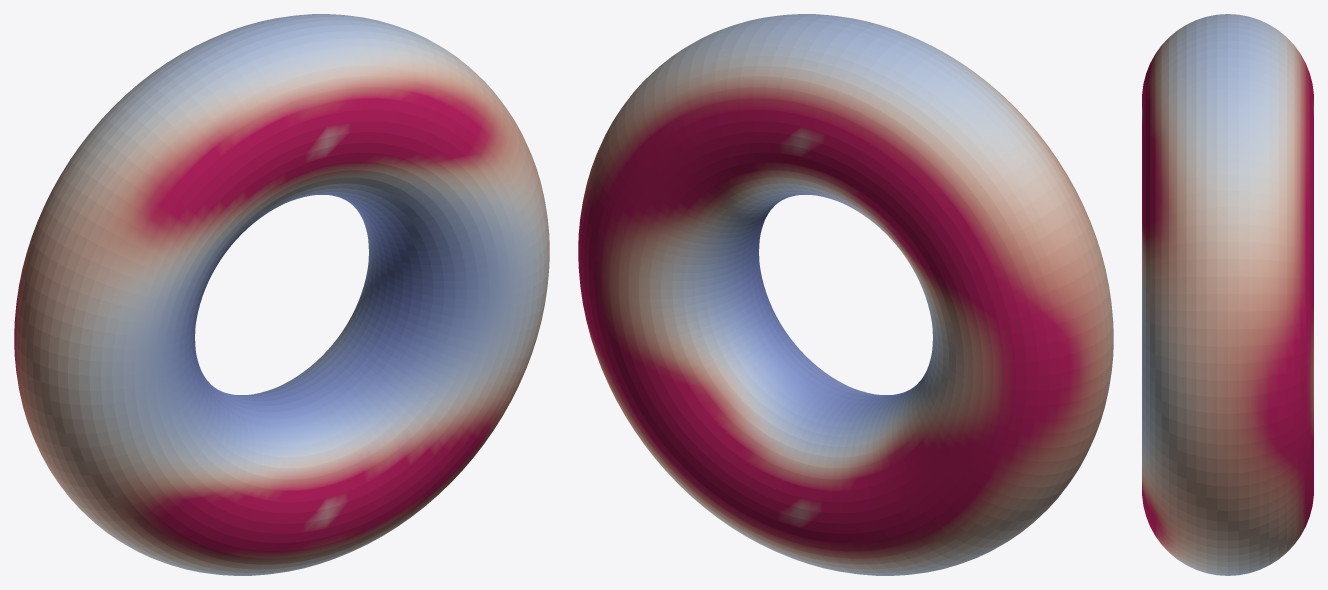
The picture shows the model from 3 angles, left to right: view 1: azimuth 30°, elevation 25°; view 2: azimuth 150°, elevation 25°; view 3: azimuth 270°, elevation 25°; orthographic projection. The views are drawn at different scales.
Visible parts, largest first — view 1: world; view 2: world; view 3: world.
Boxes of the visible parts, x1,y1,x2,y2 form: world: (14, 14, 549, 575); world: (578, 14, 1113, 575); world: (1142, 14, 1313, 575).
Size of the model in its own units: 23.07 by 23.07 by 7.05.
